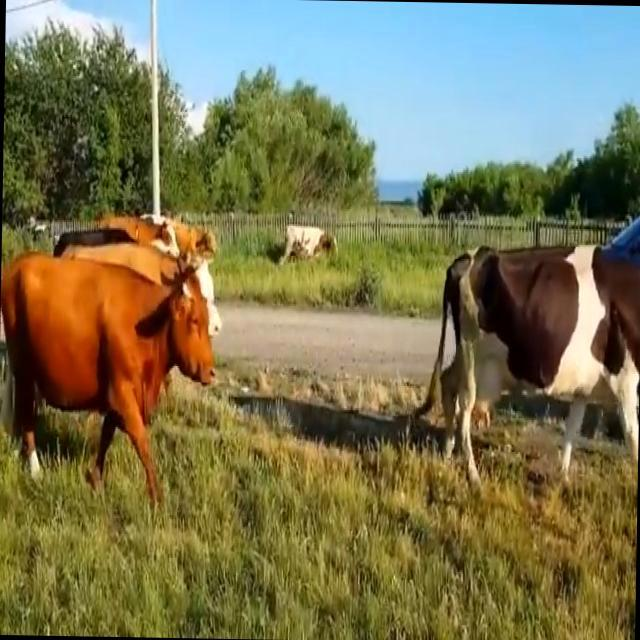COW: (0, 215, 220, 501), (417, 245, 640, 484), (284, 226, 334, 258)
